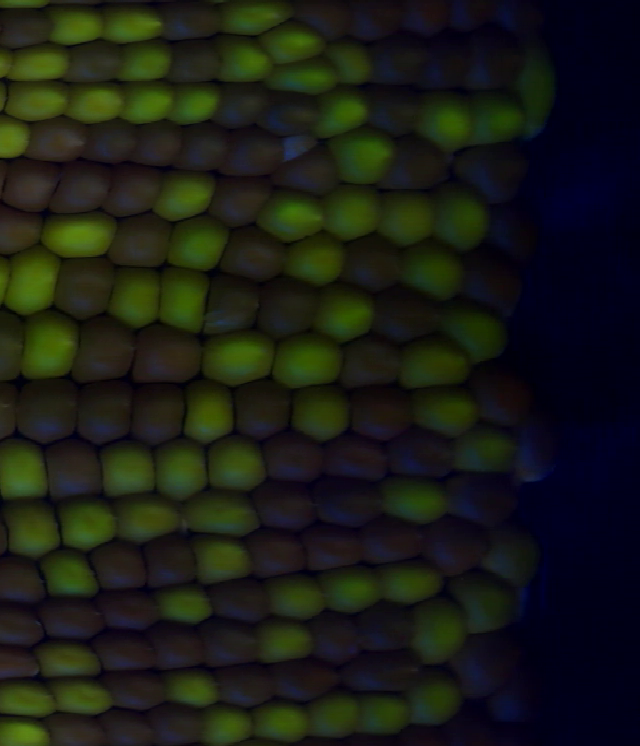fluorescent: (200, 427, 270, 494), (264, 336, 348, 391), (446, 295, 512, 358), (287, 384, 354, 440), (420, 584, 470, 658), (25, 316, 81, 379), (35, 543, 99, 598), (519, 49, 558, 139), (38, 213, 113, 259), (175, 387, 233, 446), (316, 37, 381, 88), (438, 197, 493, 255), (194, 530, 258, 579), (90, 440, 151, 491), (59, 76, 125, 123), (335, 130, 391, 185), (400, 345, 473, 387), (204, 334, 262, 385), (216, 34, 271, 87), (109, 273, 157, 330), (397, 253, 462, 295), (384, 476, 446, 520), (470, 572, 517, 629), (152, 172, 207, 220), (326, 191, 377, 242), (174, 218, 225, 269), (159, 271, 202, 331), (158, 445, 204, 501), (378, 201, 439, 243), (68, 497, 119, 547), (7, 79, 67, 121), (417, 676, 470, 723), (32, 640, 103, 675), (319, 288, 365, 342), (465, 108, 520, 153), (120, 82, 174, 127), (217, 1, 290, 34), (484, 531, 535, 578), (9, 250, 51, 307), (0, 447, 42, 504), (358, 691, 412, 734), (0, 681, 59, 720), (187, 500, 261, 531), (312, 91, 365, 134), (120, 501, 183, 537), (420, 101, 461, 155), (413, 391, 471, 429), (0, 708, 58, 746), (328, 572, 384, 611), (106, 10, 165, 47), (12, 508, 65, 549), (283, 243, 348, 276), (274, 578, 330, 616), (265, 17, 320, 55), (61, 679, 119, 713), (459, 433, 507, 473), (10, 46, 68, 79), (259, 208, 320, 239), (383, 565, 435, 601), (174, 82, 215, 124), (130, 47, 171, 87), (265, 698, 304, 739), (304, 708, 358, 737), (165, 582, 202, 624), (209, 711, 262, 740), (51, 8, 94, 42), (278, 69, 333, 94), (257, 624, 303, 653), (0, 118, 32, 158), (171, 681, 219, 702)
nonfluorescent: (473, 360, 532, 429), (32, 442, 102, 497), (257, 92, 329, 142), (375, 288, 438, 343), (130, 326, 197, 376), (246, 478, 310, 530), (75, 379, 128, 440), (336, 334, 399, 384), (228, 382, 291, 431), (448, 473, 513, 520), (304, 516, 359, 571), (264, 278, 316, 336), (200, 614, 254, 669), (20, 385, 77, 437), (130, 394, 188, 445), (223, 133, 283, 182), (70, 333, 130, 382), (362, 518, 426, 563), (461, 147, 515, 200), (315, 478, 383, 520), (462, 249, 510, 307), (90, 543, 148, 591), (378, 136, 439, 181), (345, 387, 406, 431), (164, 7, 226, 50), (219, 662, 277, 707), (217, 175, 268, 226), (490, 676, 539, 729), (346, 236, 402, 282), (388, 430, 444, 476), (58, 260, 109, 310), (423, 43, 475, 91), (93, 633, 162, 669), (216, 271, 258, 330), (258, 437, 317, 479), (244, 534, 309, 572), (107, 224, 164, 266), (280, 662, 348, 697), (348, 1, 406, 42), (148, 704, 210, 742), (3, 162, 57, 205), (361, 653, 420, 692), (141, 537, 193, 581), (58, 160, 103, 210), (93, 118, 144, 162), (103, 707, 160, 746), (309, 614, 355, 662), (154, 617, 200, 665), (229, 229, 281, 271), (96, 591, 148, 633), (425, 529, 484, 566), (167, 43, 215, 88), (206, 579, 262, 617), (487, 1, 540, 40), (103, 172, 152, 214), (473, 36, 513, 87), (490, 205, 530, 256), (287, 149, 338, 189), (0, 608, 52, 647), (64, 43, 119, 79), (464, 630, 500, 685), (41, 598, 96, 634), (357, 605, 406, 645), (41, 120, 90, 160), (370, 88, 416, 130), (329, 436, 381, 472), (393, 1, 451, 33), (186, 126, 230, 168), (374, 36, 420, 76), (0, 560, 41, 604), (0, 205, 38, 252), (0, 646, 49, 682), (145, 124, 184, 168), (48, 711, 95, 746), (102, 671, 159, 698), (223, 85, 268, 117), (446, 5, 486, 39), (0, 11, 45, 40), (304, 4, 345, 34)
